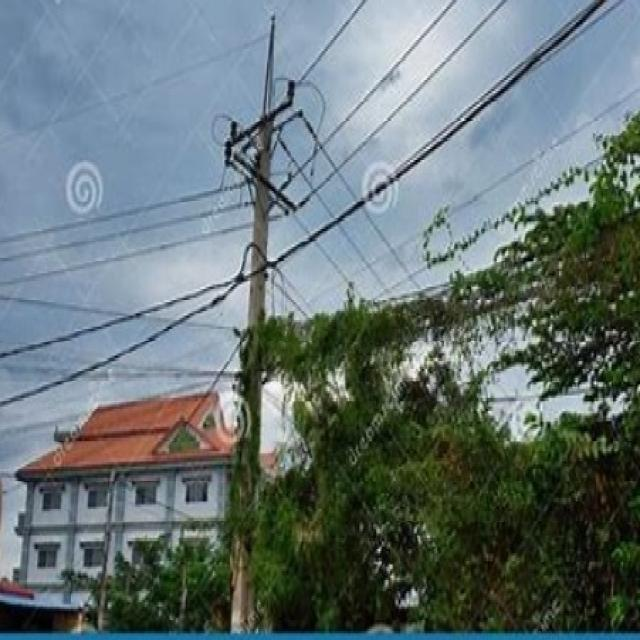critical vegetation: (249, 274, 639, 429)
